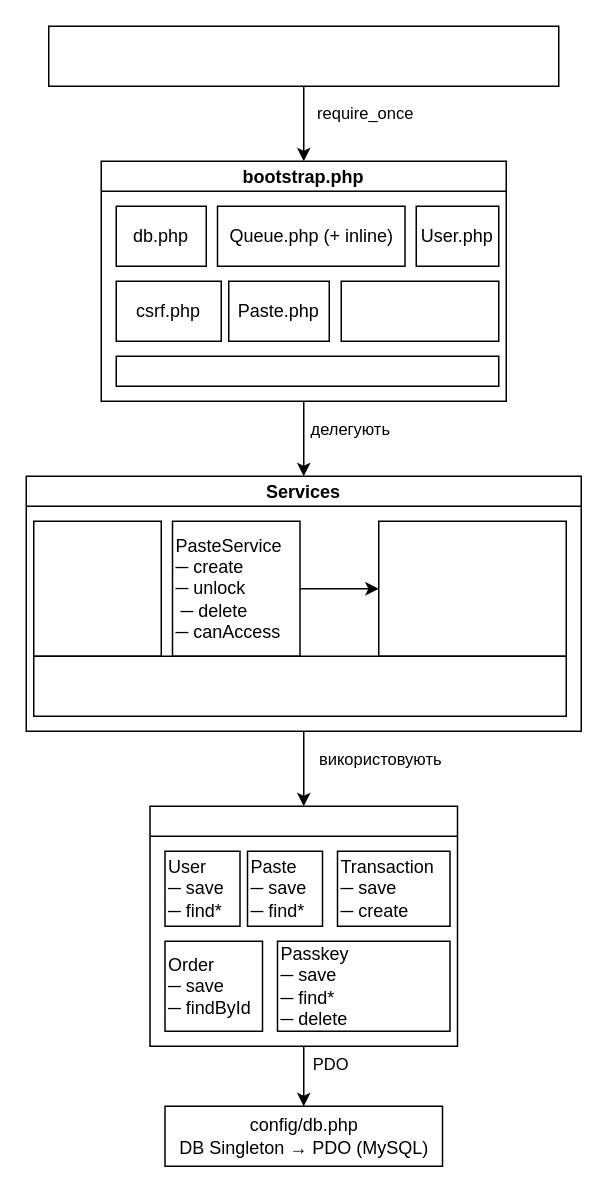
Image size: 608x1193. Some labels were removed from this diagram. The shapes that lost their labels are listed below. From the top down, each one's box as (x1, y1, x2, y2) in pixels, then its label:
(47, 25, 559, 86): Entry Points index.php create.php view.php login.php settings.php ...
(340, 280, 499, 341): Moderation.php
(115, 355, 499, 386): mailer.php
(32, 520, 161, 656): AuthService ─ register ─ login/OAuth ─ Passkey ─ profile
(377, 520, 566, 656): CreditService ─ deduct/credit ─ transfer ─ purchasePasteAcc
(32, 655, 566, 716): AdQuestService ─ issueToken / verifyEvent / progress / hasAccess
(148, 805, 458, 1046): Models
